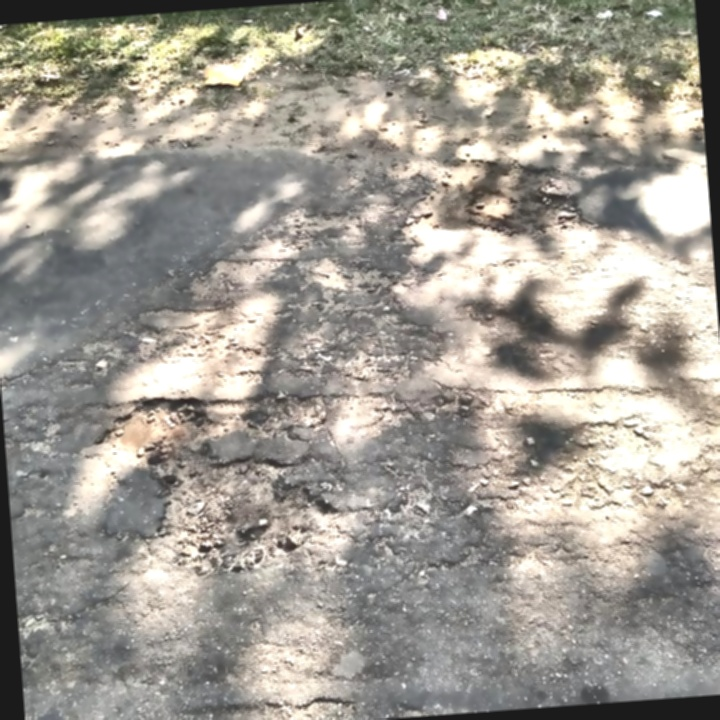pothole: (148, 447, 340, 581), (396, 147, 593, 247), (92, 389, 218, 470)
